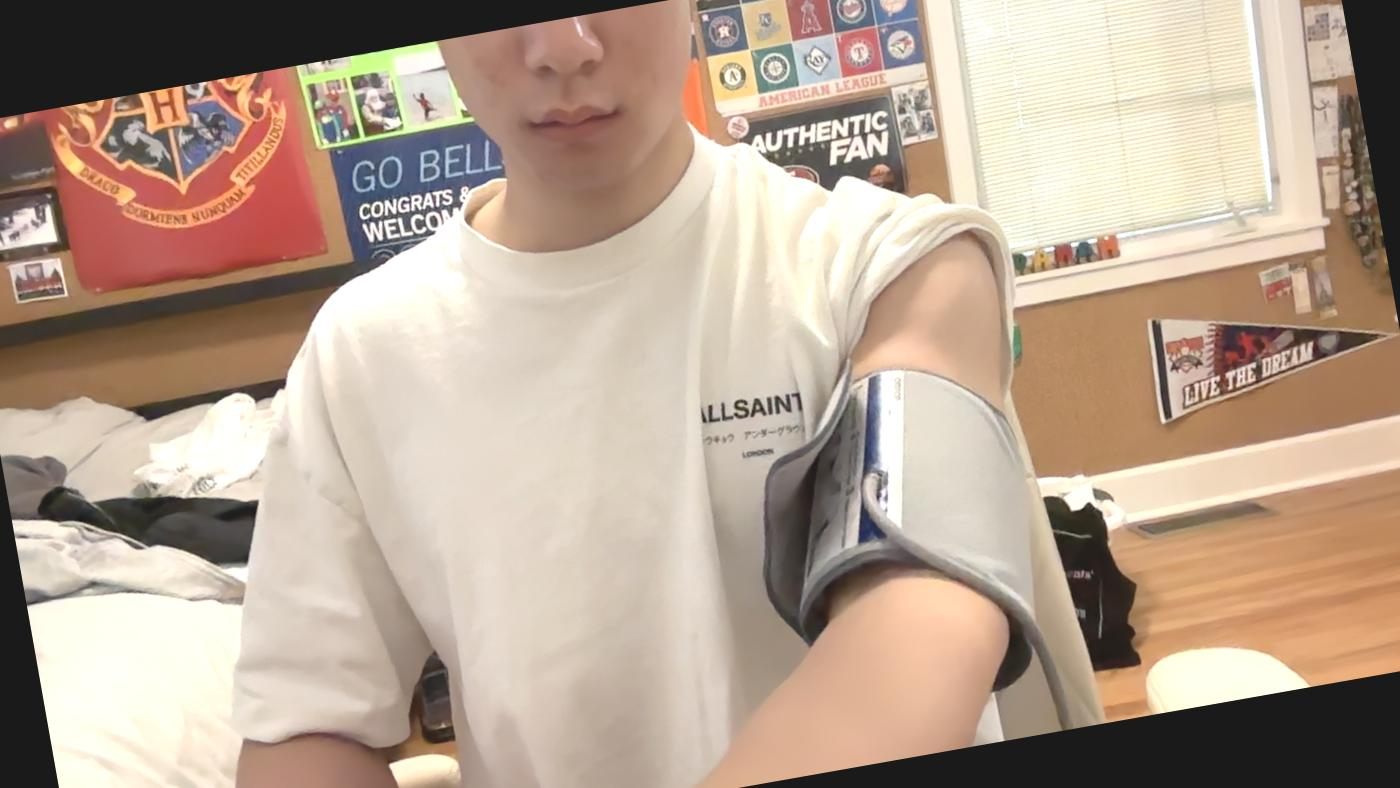cuff: (765, 371, 1043, 697)
